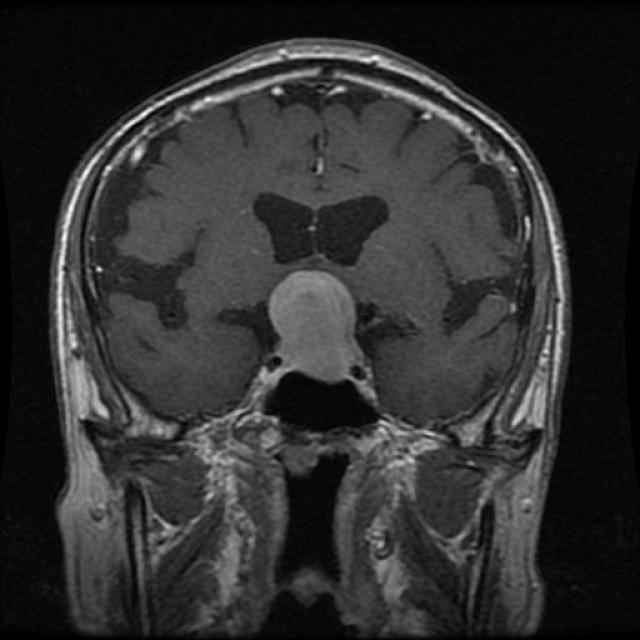pituitary: (264, 264, 365, 394)
